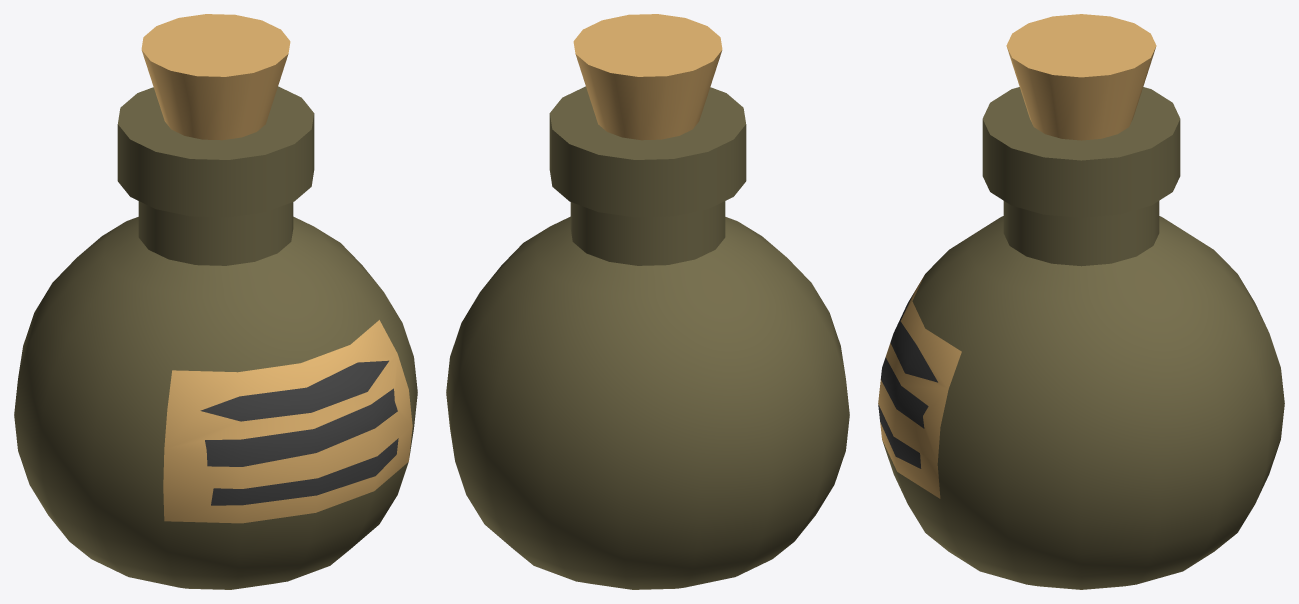
File: WhaleOil.fbx
3 views of the same model, side by side, from view 1: azimuth 30°, elevation 25°; view 2: azimuth 150°, elevation 25°; view 3: azimuth 270°, elevation 25° (orthographic).
Visible parts, largest first — view 1: Whale Oil; view 2: Whale Oil; view 3: Whale Oil.
Part boxes in pixels (box(x1,y1,x2,y2)): Whale Oil: box(14, 14, 417, 589); Whale Oil: box(446, 14, 849, 589); Whale Oil: box(878, 14, 1284, 589).
Bounding box in the file's own units: 9.42 × 12.89 × 9.42.
